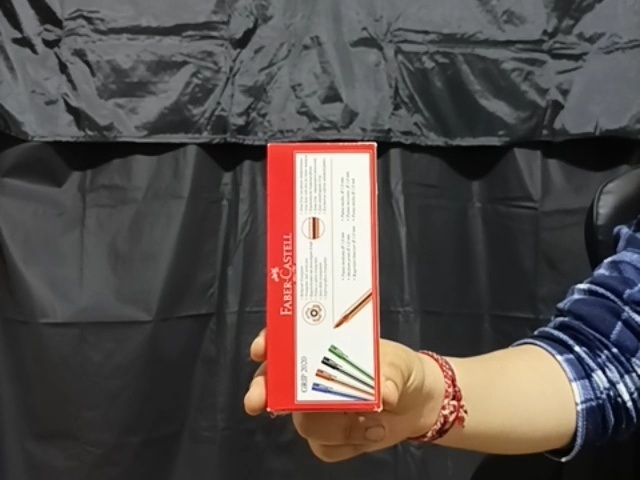xd: (263, 140, 383, 413)
